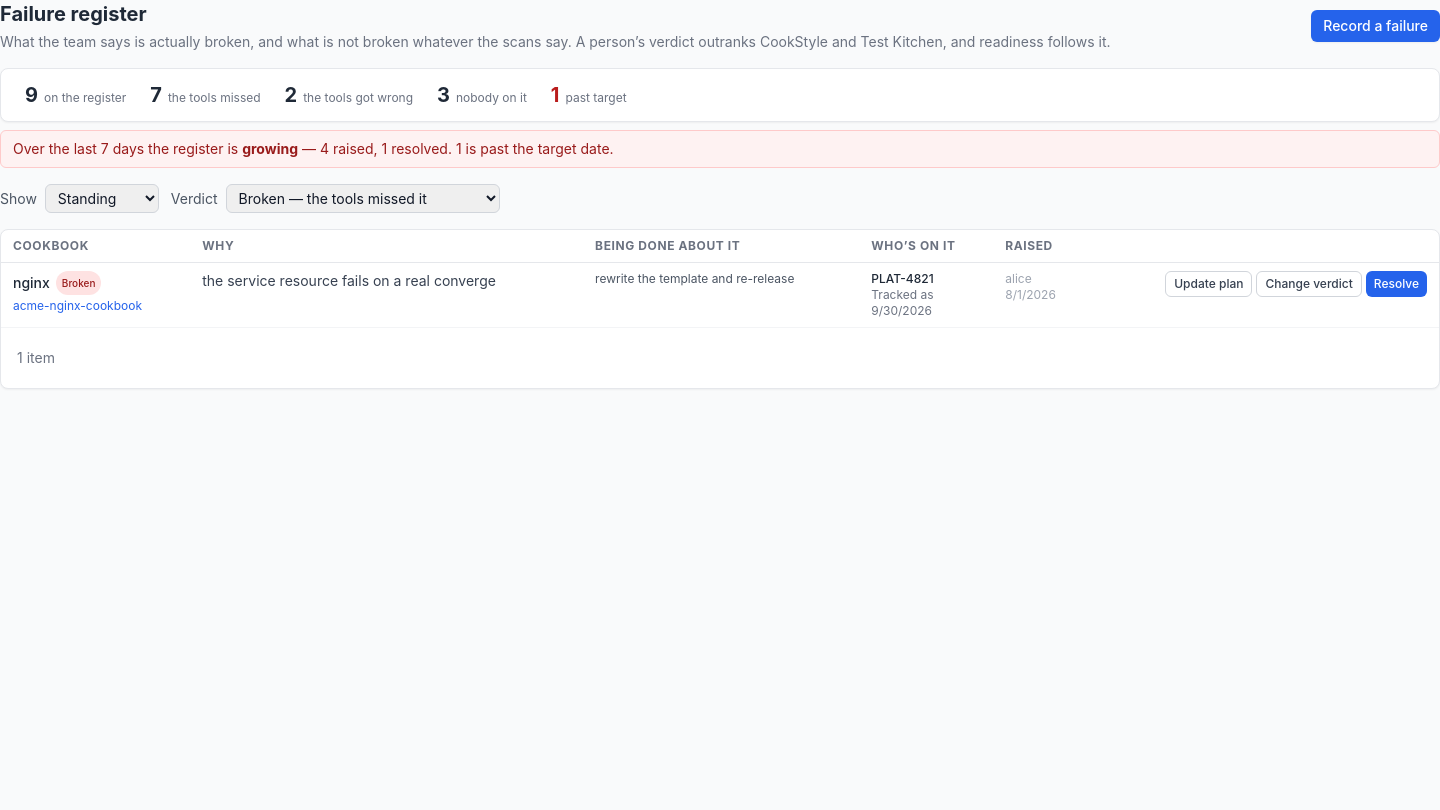
Test: FailureRegisterPage › will not submit a verdict without a reason
The width and height of the screenshot is (1440, 810).
Click the button "Record a failure". click: (1376, 26)
box: [1311,10,1439,42]
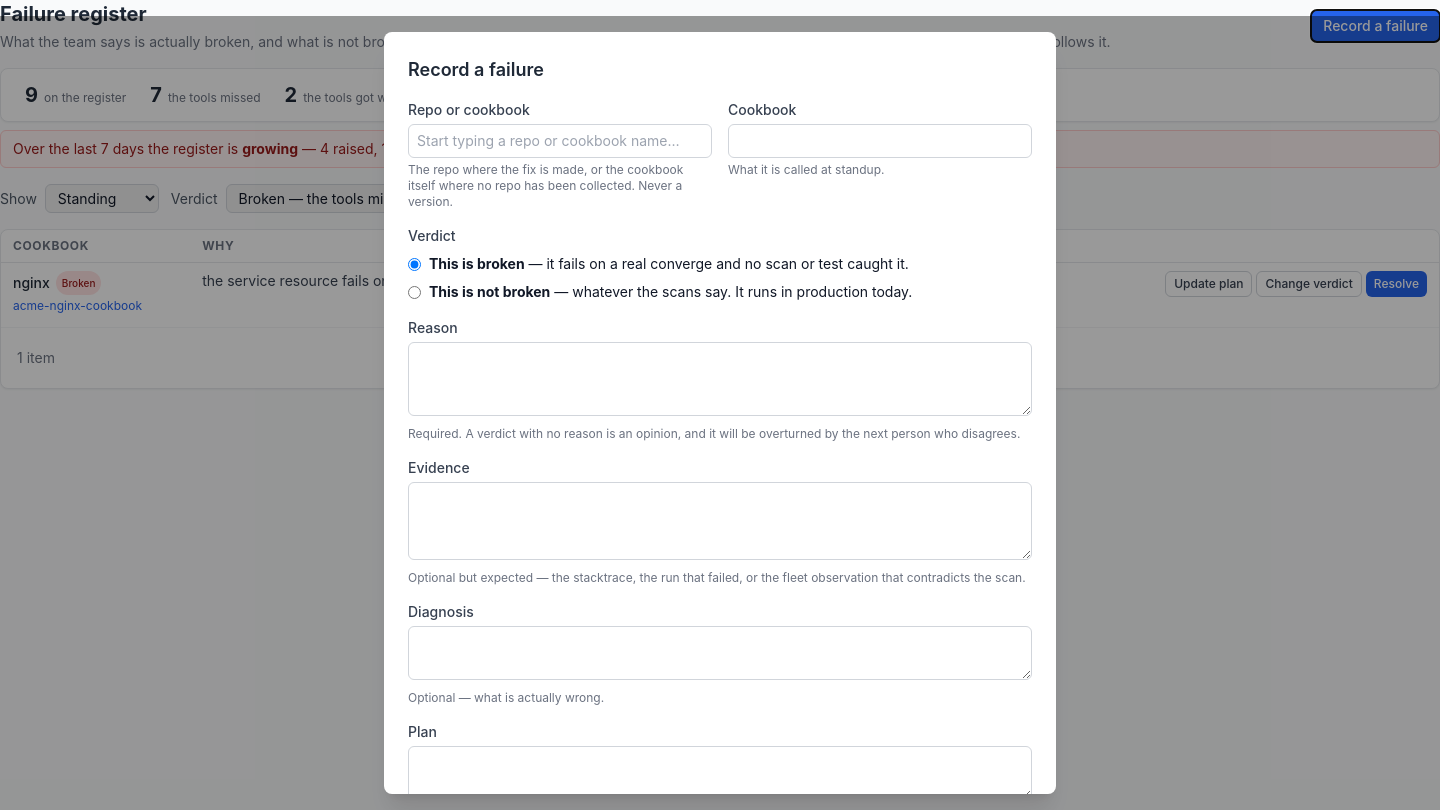
Type "acme-mysql" into the dropdown labelled "Repo or cookbook". click: (560, 141)
box: [408,124,712,158]
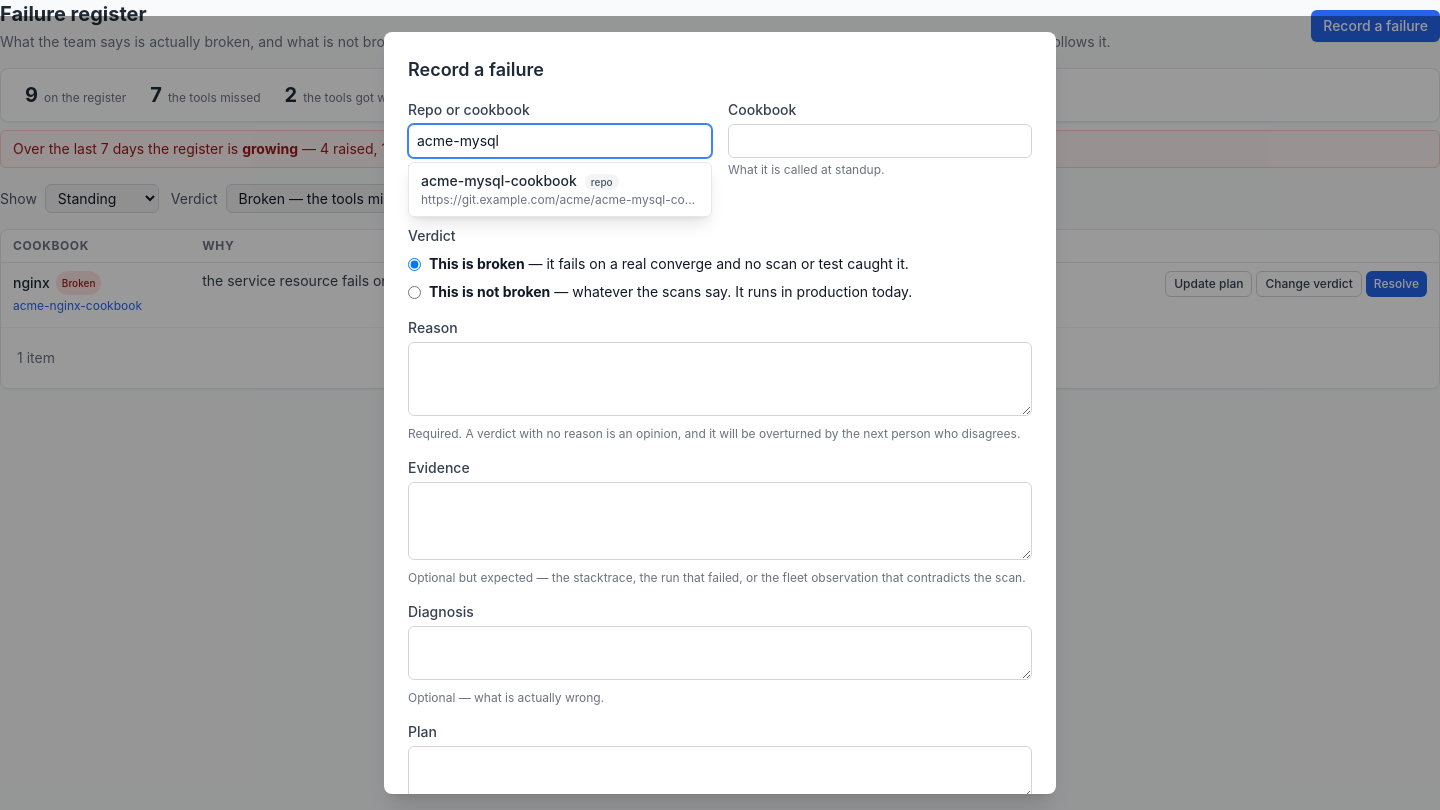
Click the button "acme-mysql-cookbook". click: (560, 190)
box: [409,163,711,216]
(page scrolled)
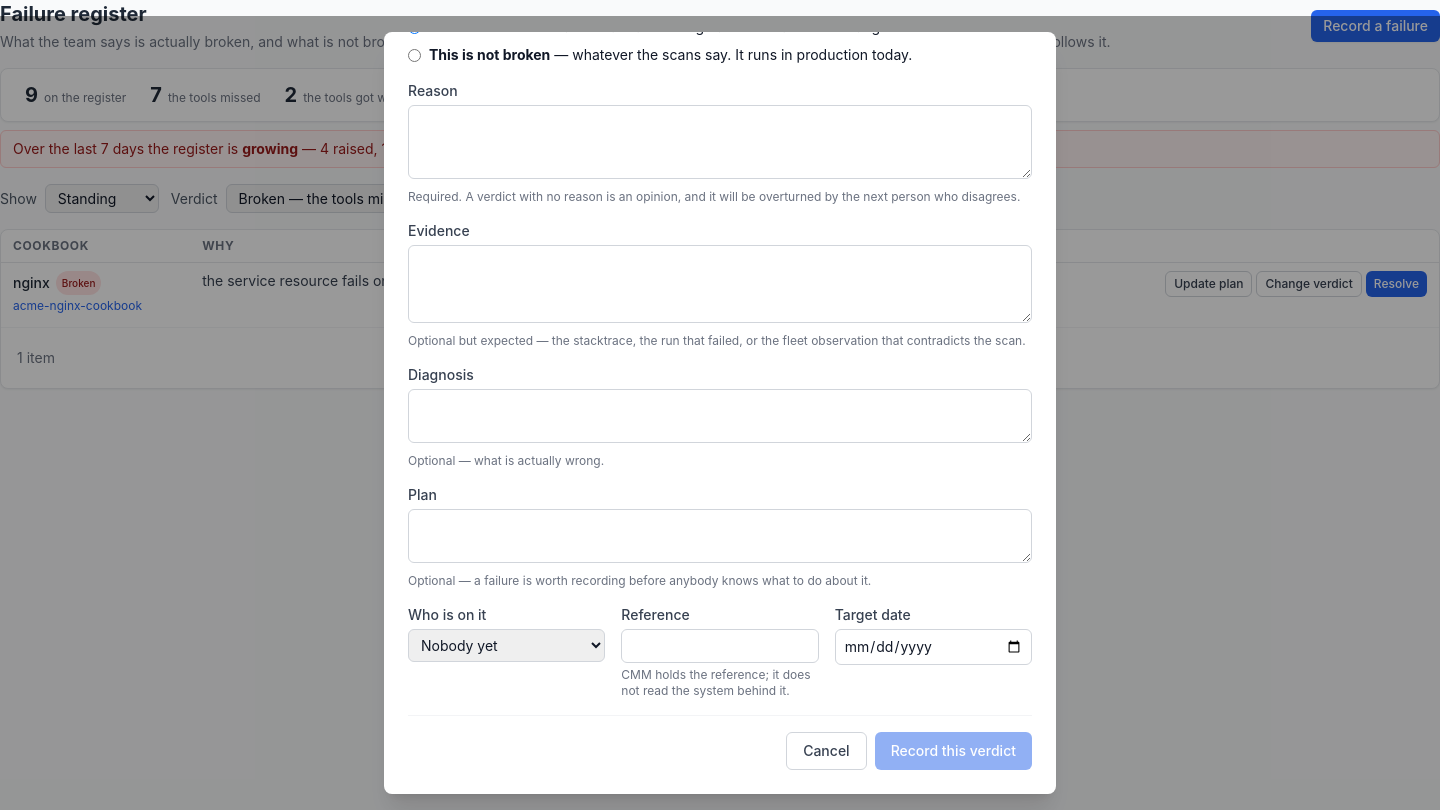
expect the button "Record this verdict" is disabled: met, box [875,732,1032,770]
